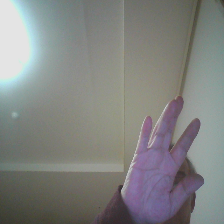hand: (123, 92, 207, 224)
